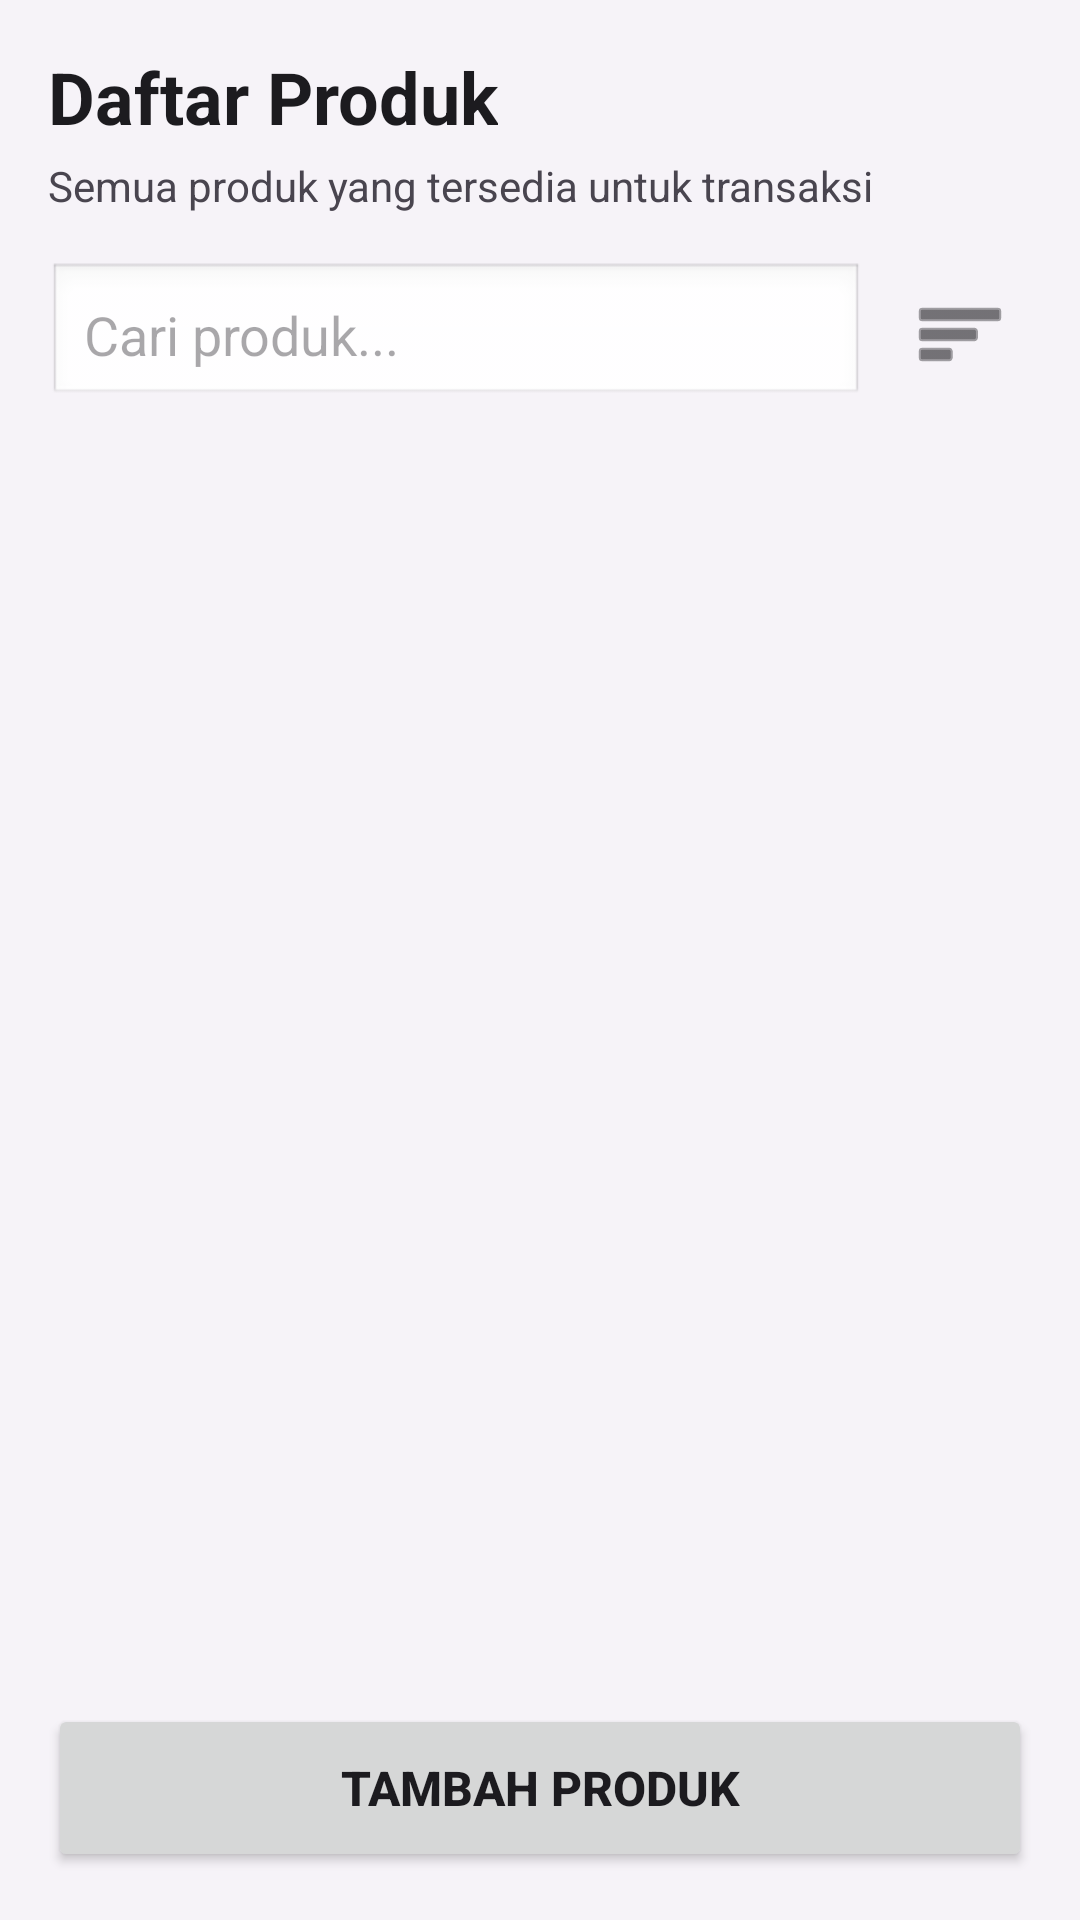

Screen size 1080*1920. Icon name, then its center in pixels as (x=x, y=y):
Filter Kategori: (x=960, y=334)
